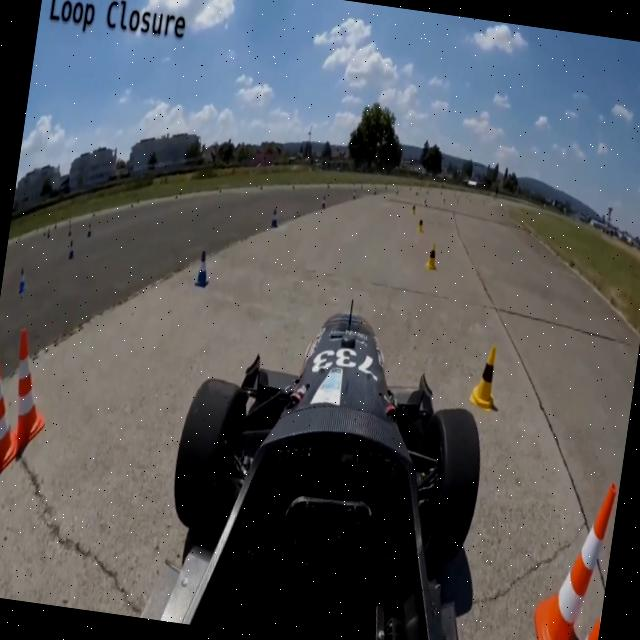blue_cone: (188, 234, 220, 292), (268, 203, 282, 233)
large_orange_cone: (525, 492, 618, 640), (0, 332, 51, 458)
yellow_cone: (466, 339, 504, 412), (424, 238, 445, 270), (416, 213, 430, 231)
